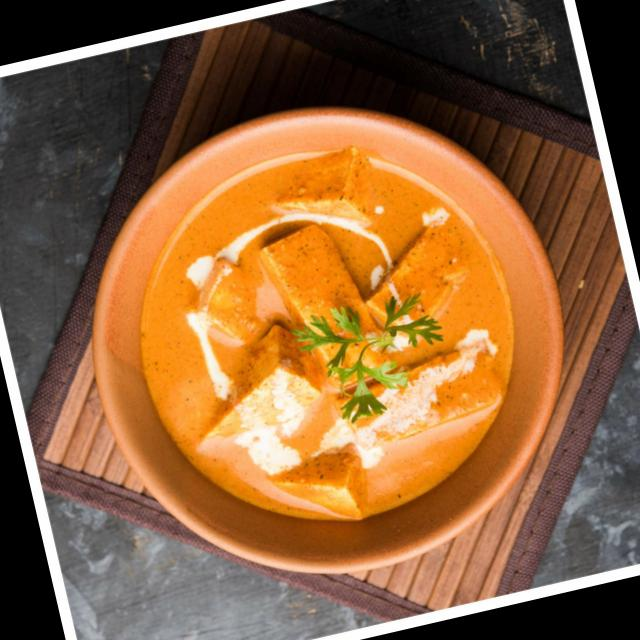ShahiPaneer: (107, 112, 552, 564)
